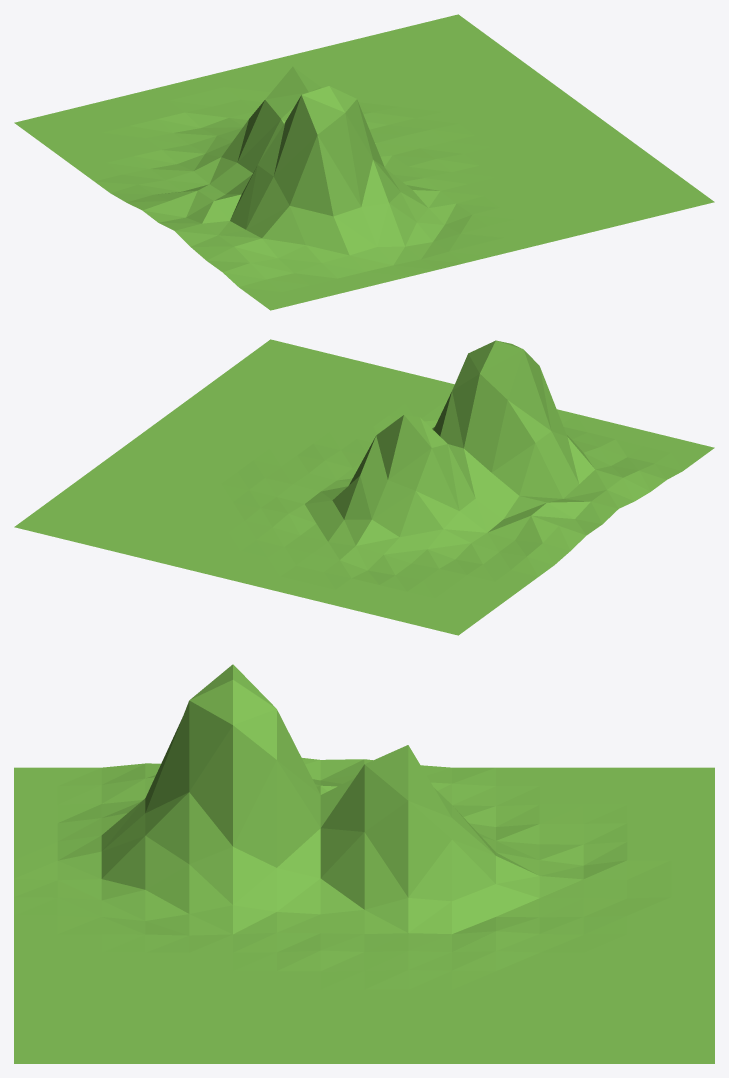
The picture shows the model from 3 angles, top to bottom: view 1: azimuth 30°, elevation 25°; view 2: azimuth 150°, elevation 25°; view 3: azimuth 270°, elevation 25°; orthographic projection. The views are drawn at different scales.
Parts seen in each view (by area): view 1: Plane; view 2: Plane; view 3: Plane.
Boxes of the visible parts, x1,y1,x2,y2 form: Plane: (14, 14, 714, 310); Plane: (14, 339, 714, 635); Plane: (14, 664, 714, 1063).
Bounding box in the file's own units: 200 × 58.55 × 200.
